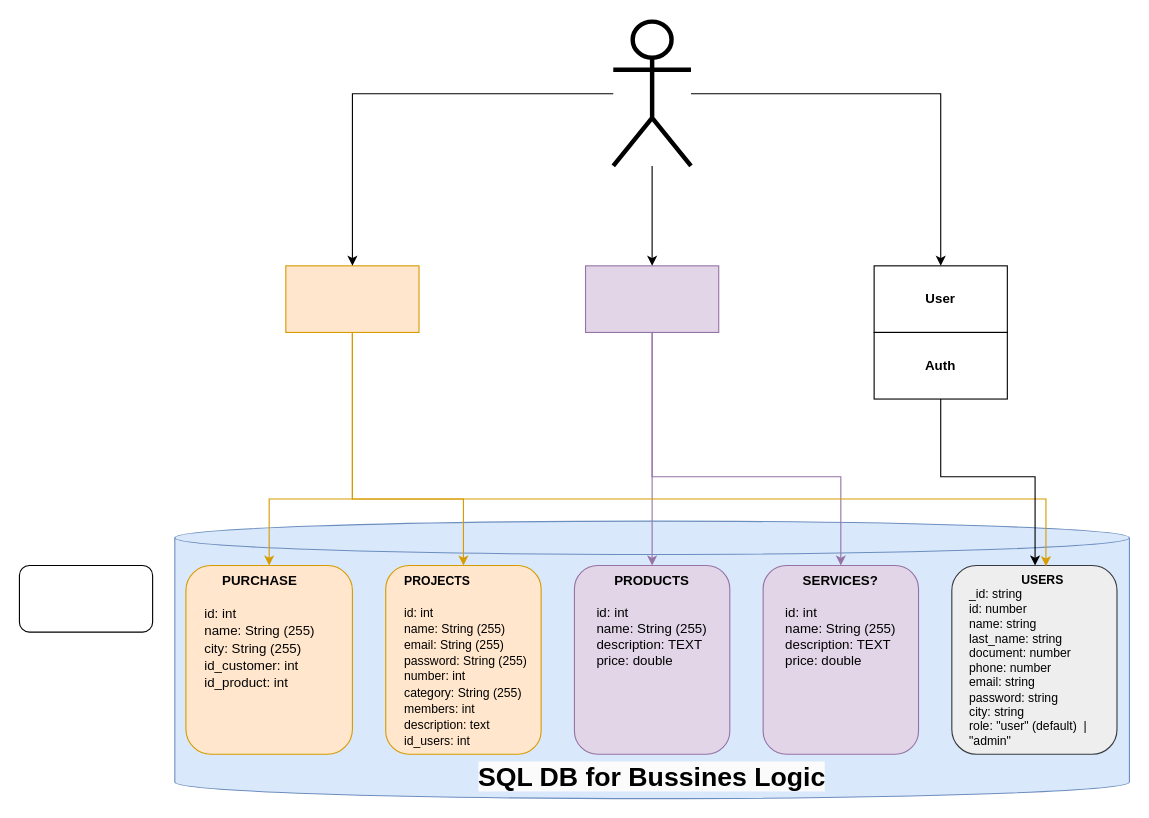
This 1149x818 diagram has some shape labels left out. Here are the shapes that lost their labels. From the top down, the centre of each, then its label:
At (x=651, y=93): "Actor".
At (x=352, y=298): "Profile".
At (x=651, y=298): "Catalogue".
At (x=85, y=598): "CLIENT".
